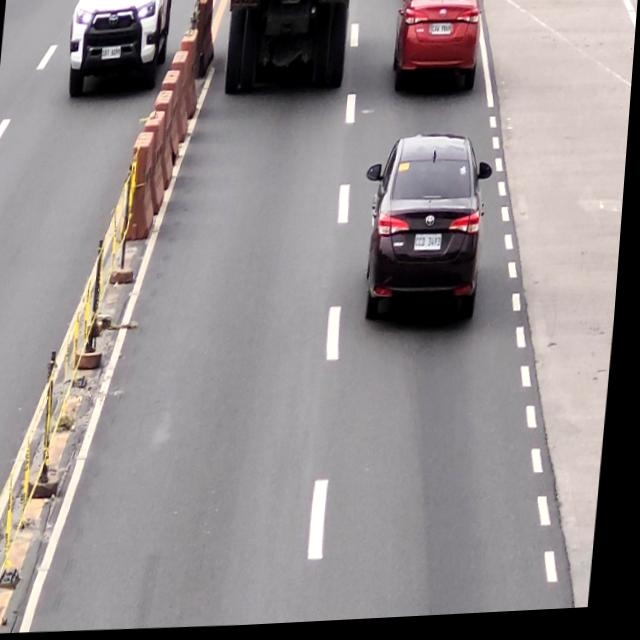Car: (360, 134, 497, 331), (386, 0, 487, 100)
License-Plate: (417, 237, 447, 255), (431, 25, 452, 41), (280, 0, 302, 8)
Truck: (221, 0, 351, 98)
